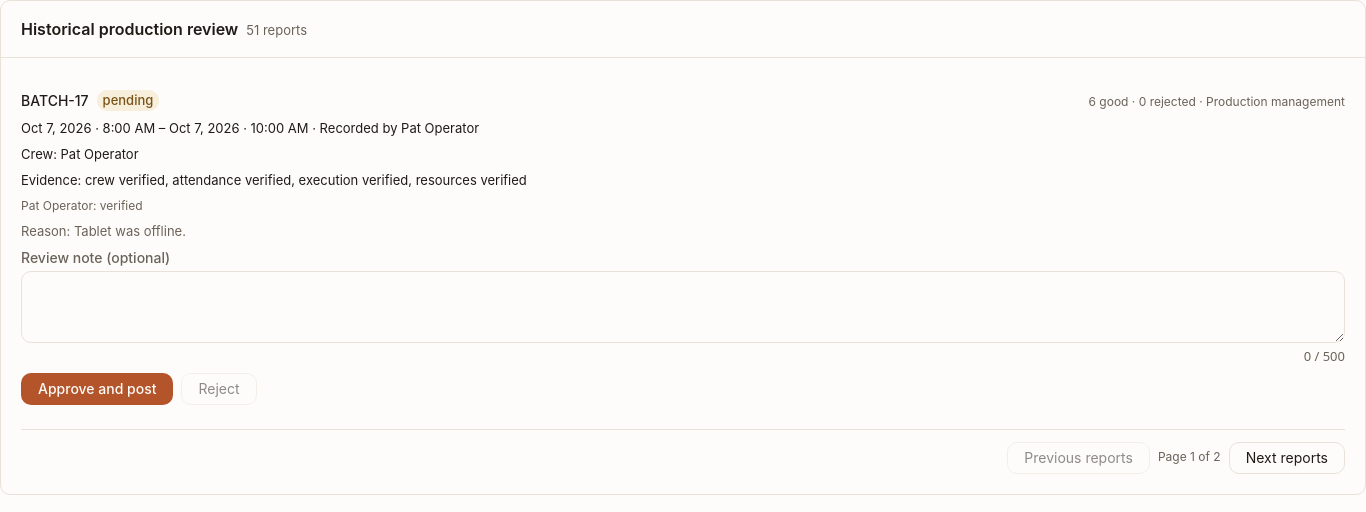
it: late production reports › paginates older manager review reports
Click the button "Next reports": point(1287, 458) [1229, 442, 1345, 474]
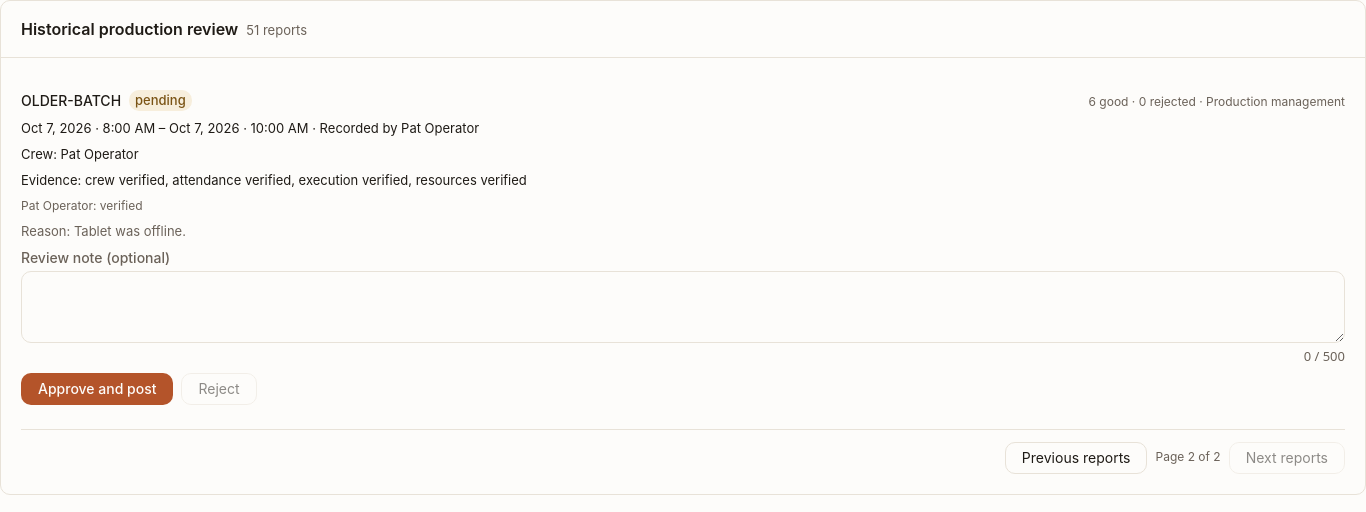
Expected: the text "pending" is shown, [129, 90, 192, 111]
Expected: the text "OLDER-BATCH" is shown, [21, 92, 121, 109]
Expected: the text "Page 2 of 2" is shown, [1156, 449, 1221, 466]
